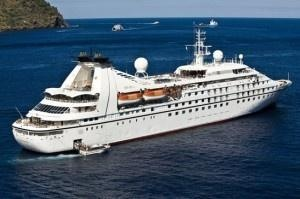youlun: (13, 28, 288, 153)
